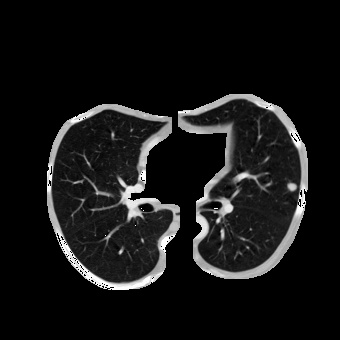PN: (287, 182, 297, 192)
